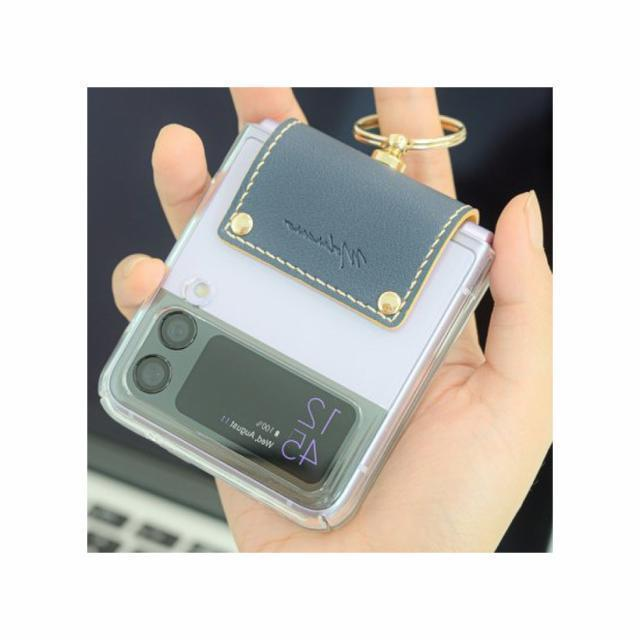mobile: (95, 117, 485, 529)
